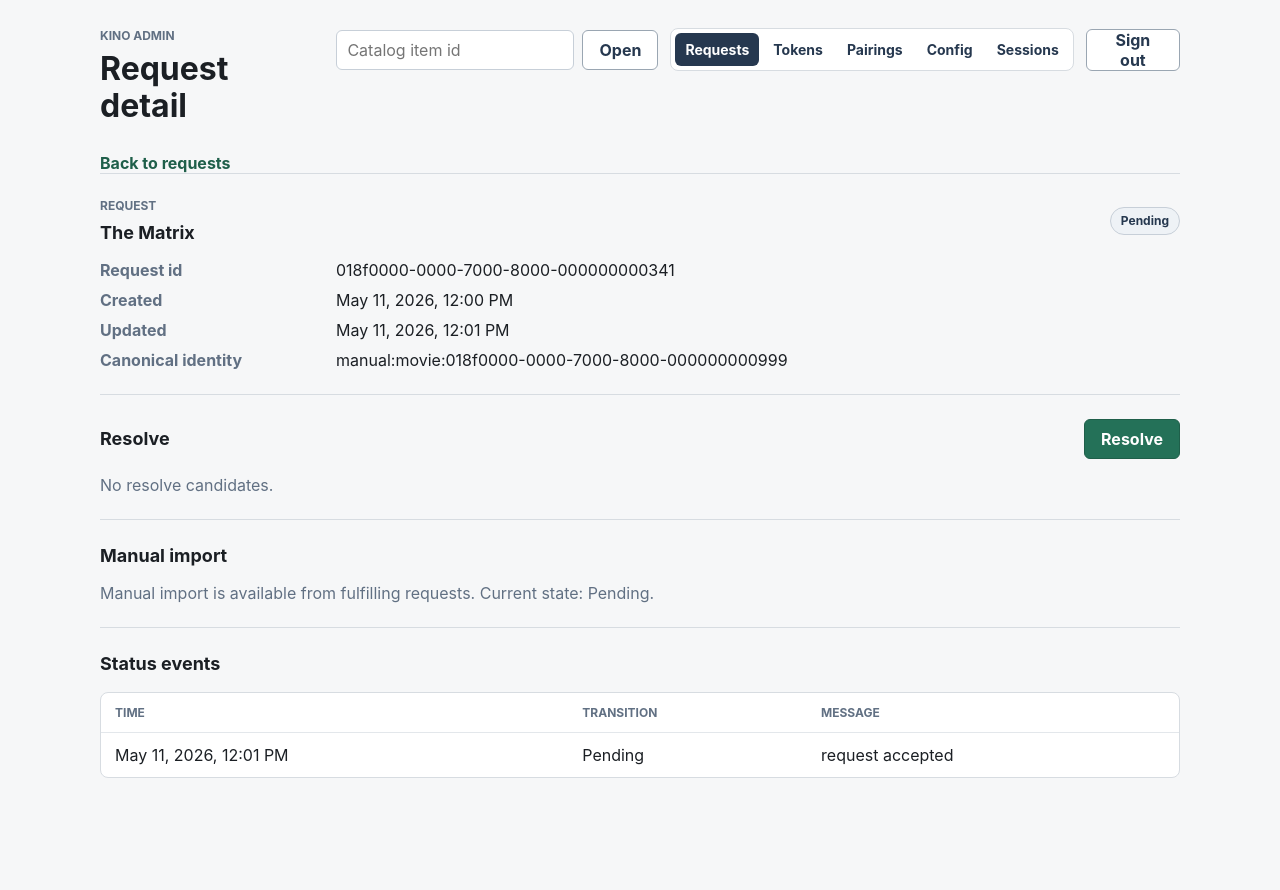
Test: resolves a request and renders ranked candidates
Expected: the heading "The Matrix" is shown, [100, 221, 195, 244]
Step 1. Click the button "Resolve" → (1132, 439), box [1084, 419, 1180, 459]
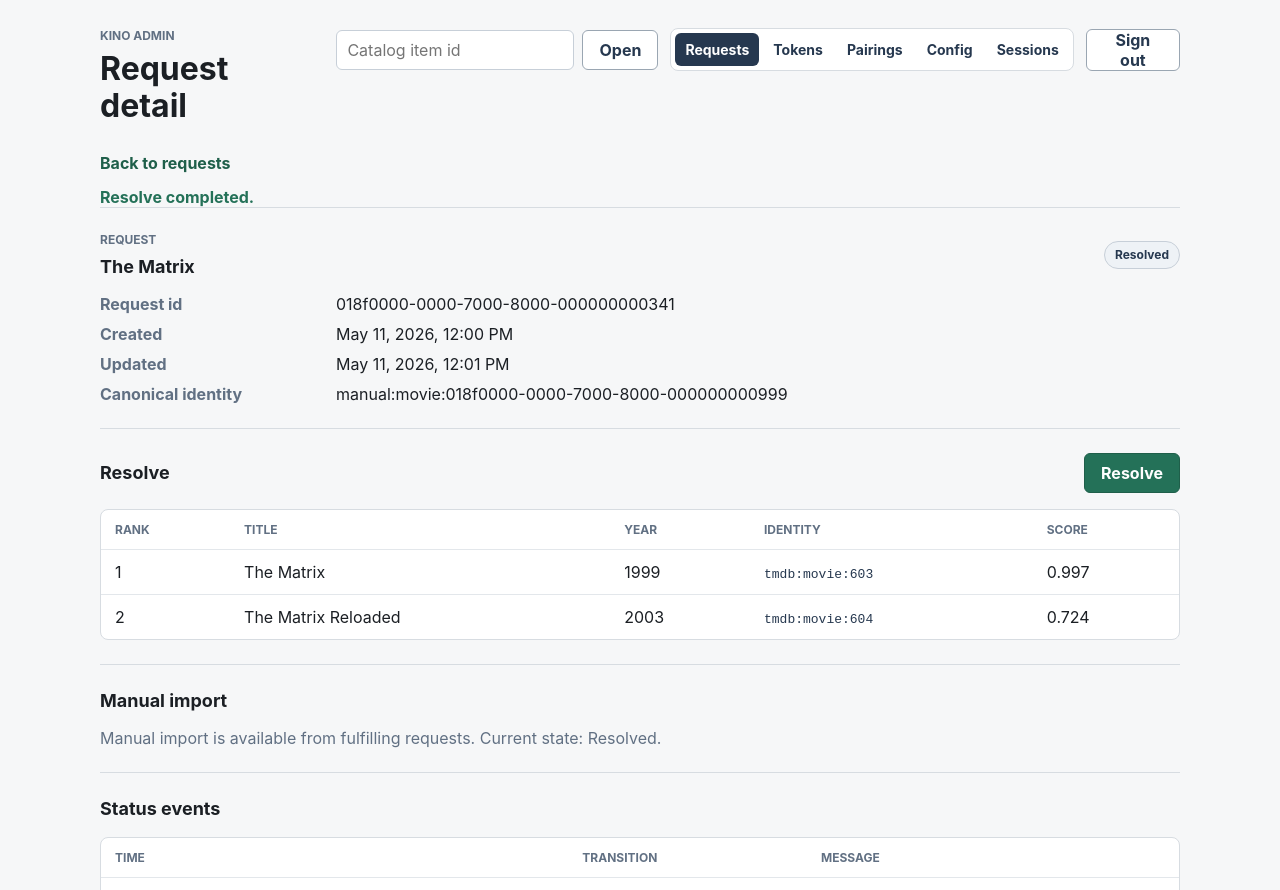
Expected: the text "Resolve completed." is shown, [100, 187, 254, 207]
Expected: the text "tmdb:movie:603" is shown, [764, 567, 873, 582]
Expected: the text "0.997" is shown, [1033, 550, 1179, 594]
